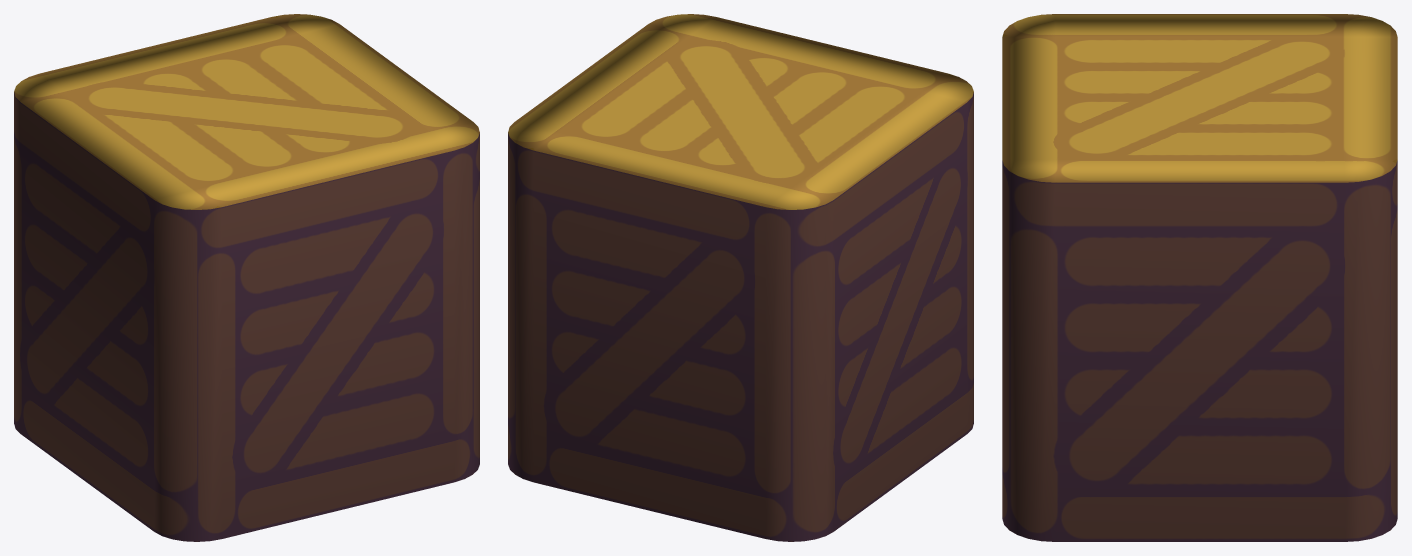
3 views of the same model, side by side, from view 1: azimuth 30°, elevation 25°; view 2: azimuth 150°, elevation 25°; view 3: azimuth 270°, elevation 25° (orthographic). The views are drawn at different scales.
Parts seen in each view (by area): view 1: Box; view 2: Box; view 3: Box.
Boxes of the visible parts, x1,y1,x2,y2 form: Box: (14,14,479,541); Box: (508,14,973,541); Box: (1002,14,1397,541).
Bounding box in the file's own units: 146 × 145 × 144.
